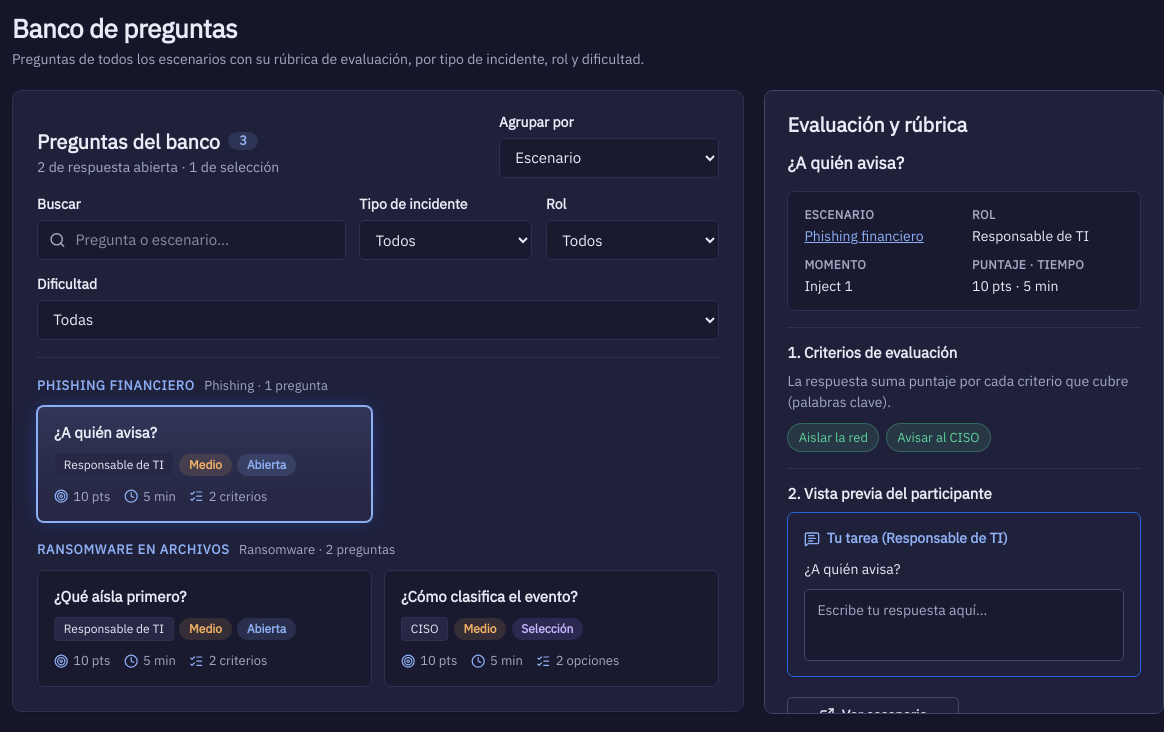
Test: BancoPreguntasPage › busca por texto y agrupa por momento del ejercicio
Step 1. Select "Momento del ejercicio" in the dropdown labelled "Agrupar por" → coordinates (609, 158), box x1=499 y1=138 x2=719 y2=178
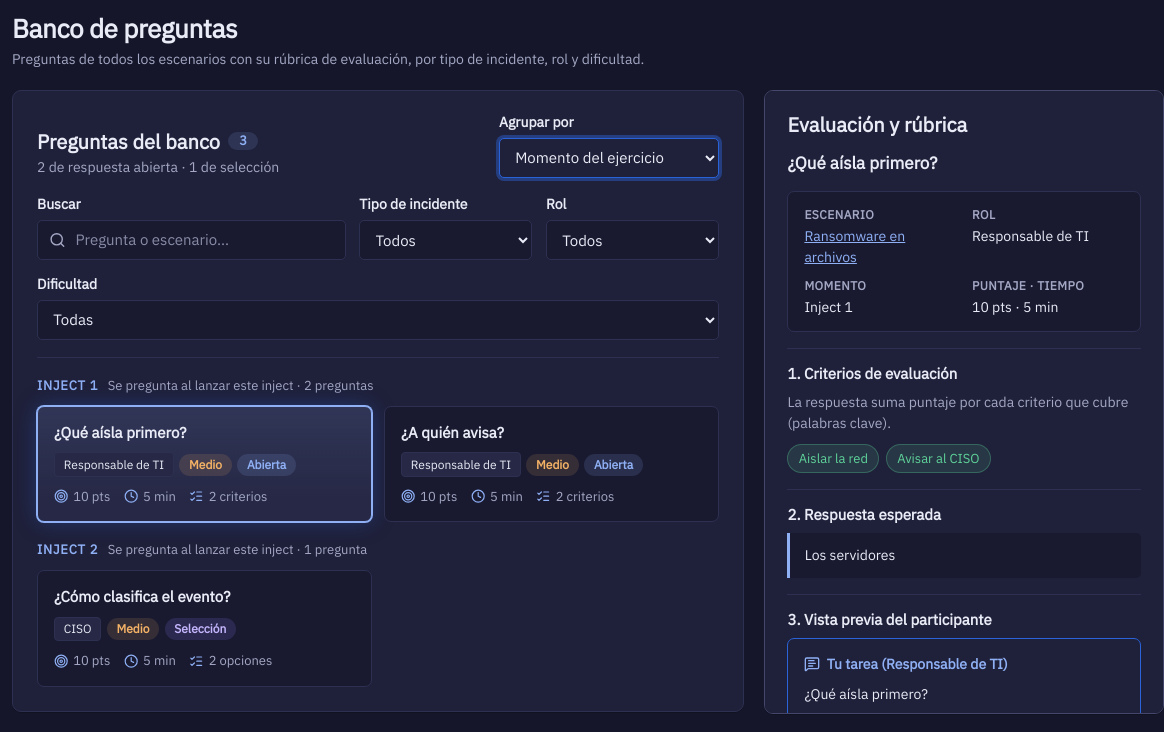
Now the element "Inject 1" is shown, box x1=37 y1=378 x2=719 y2=522
Now the element "Inject 2" is shown, box x1=37 y1=542 x2=372 y2=687
Step 2. Type "avisa" into the search field labelled "Buscar" → coordinates (191, 240), box x1=37 y1=220 x2=346 y2=260
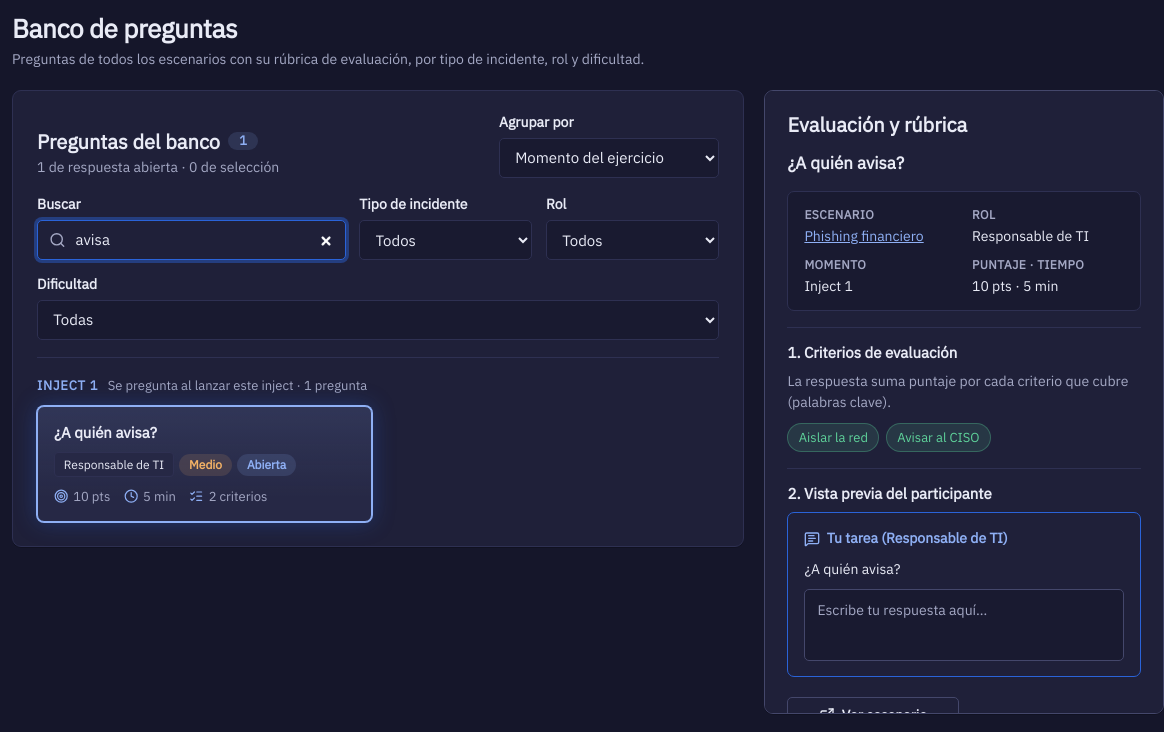
Expected: the button "¿A quién avisa?" is shown, x1=37 y1=406 x2=372 y2=522
Now the button "¿Qué aísla primero?" is gone
